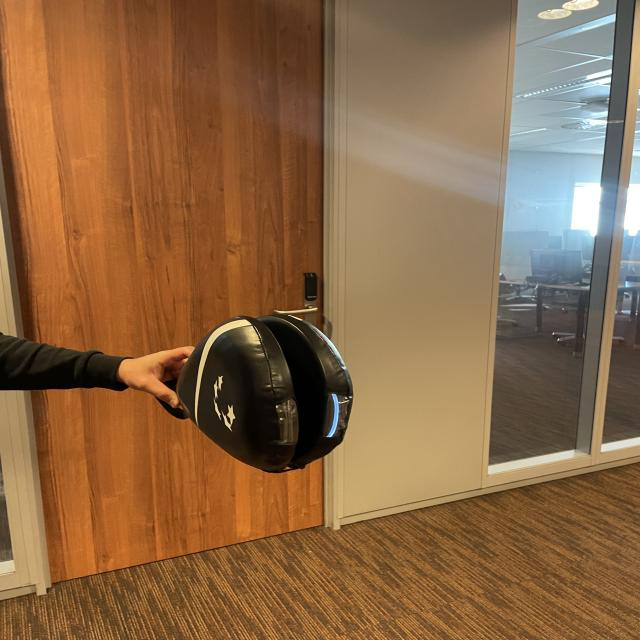paddle: (187, 315, 352, 462)
trigger: (322, 387, 344, 444)
